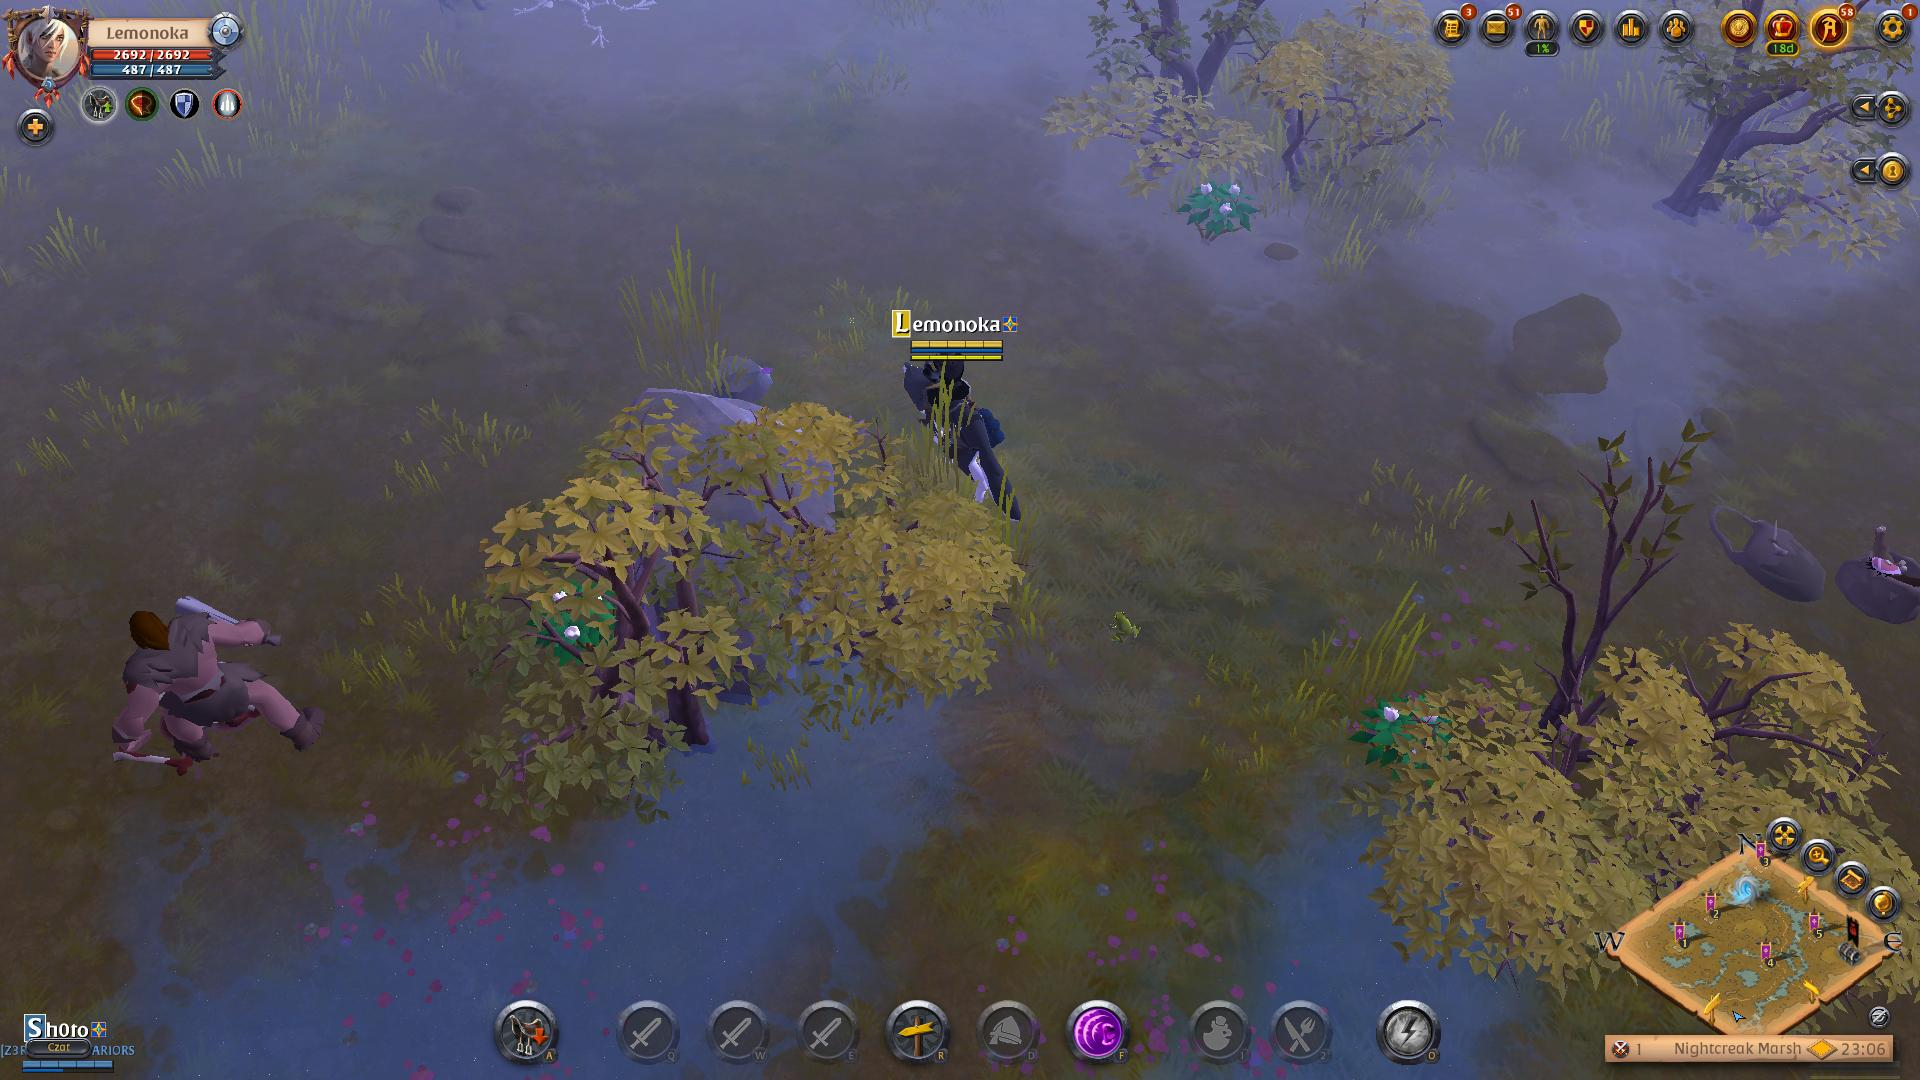fiber tier 3: (1172, 171, 1257, 252)
